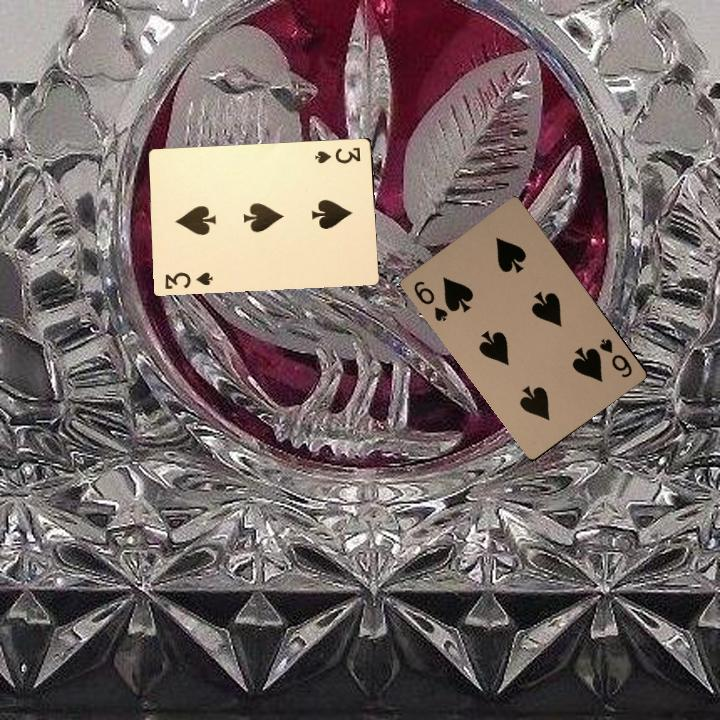3s: (161, 268, 215, 291), (311, 143, 363, 166)
6s: (409, 277, 451, 324), (595, 334, 635, 380)
